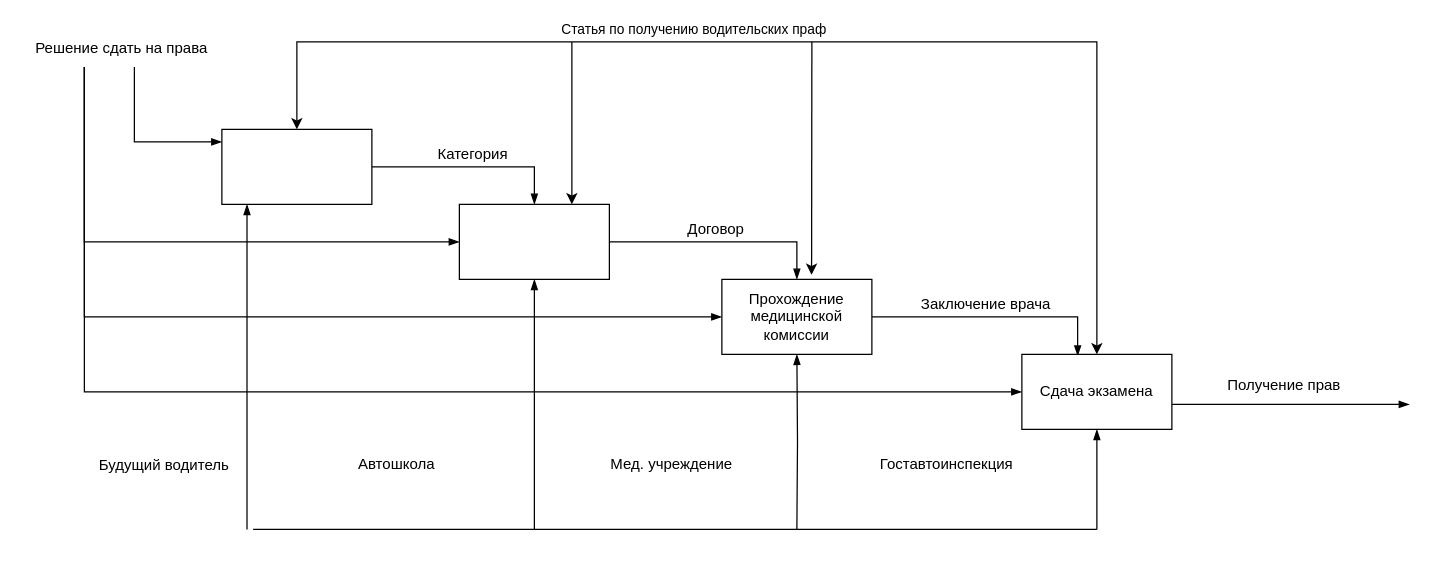
The diagram is 1441 pixels wide and 561 high, and some of its shapes have lost their labels. The shapes that lost their labels are listed below. From the top down, each one's centre as x and y in pixels, then its label:
[296,166]: Выбор категории прав
[533,241]: Заключение договора
